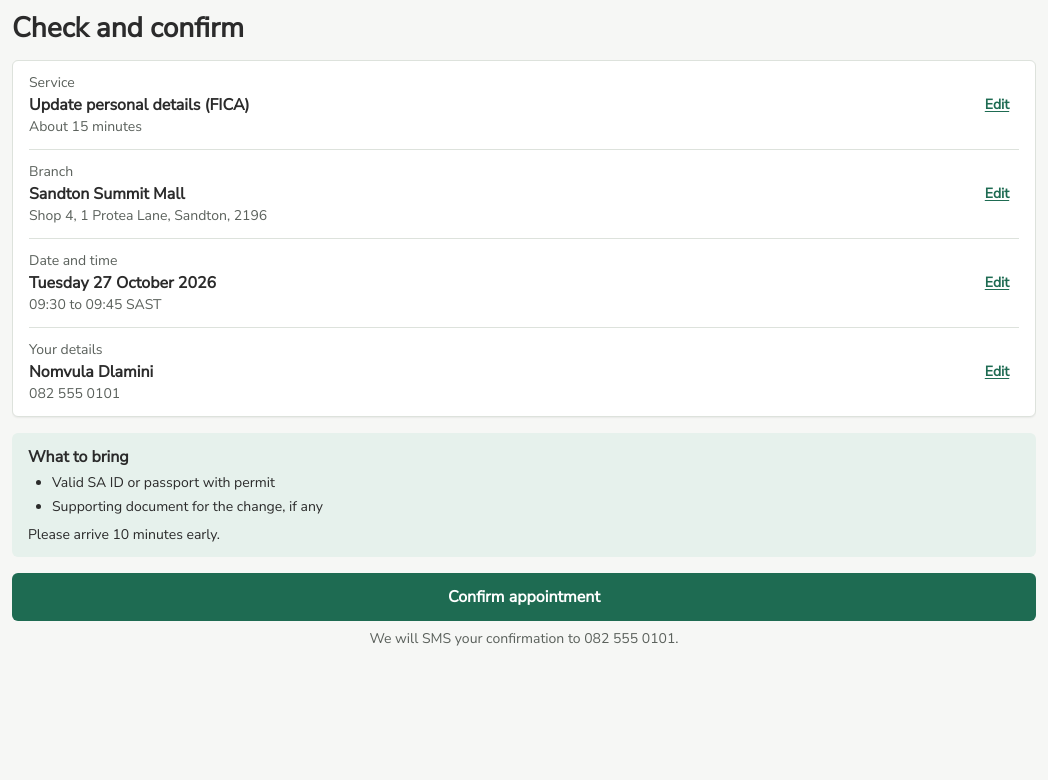
Scenario: ReviewStep › gives the id to quote when something fails on our side
The image size is (1048, 780).
Step 1. Click the button "Confirm appointment" → (524, 597), box [12,573,1036,621]
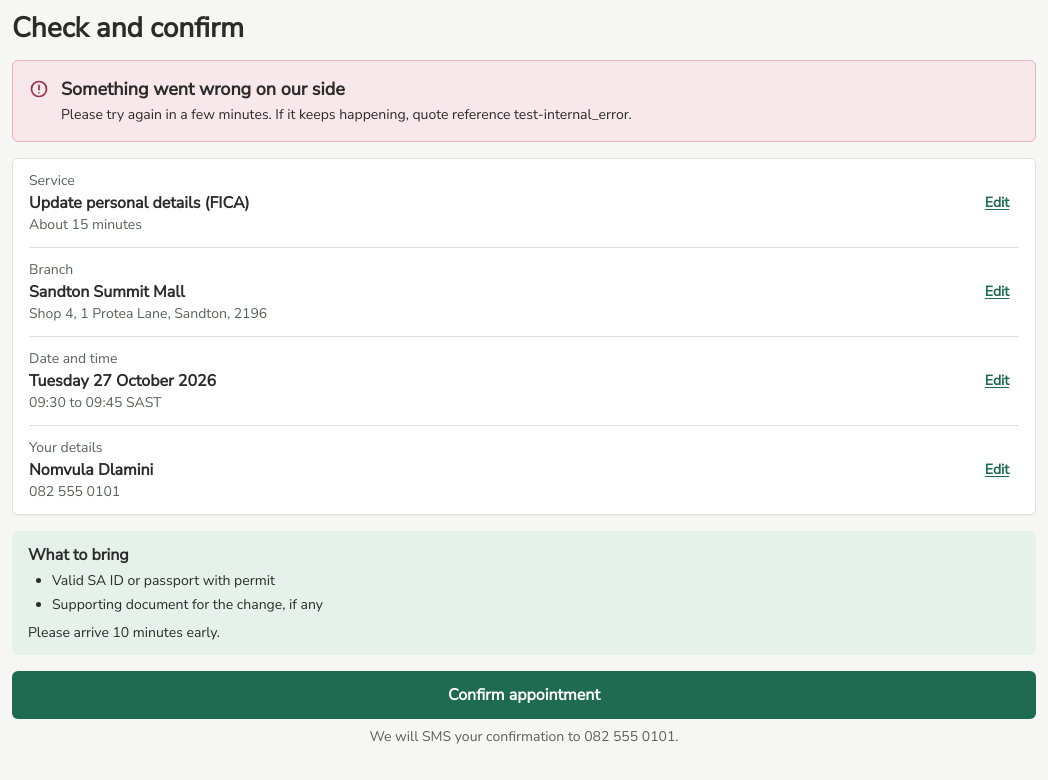
Expected: the message shows "Something went wrong on our side", [61,77,345,101]
Expected: the message shows "If it keeps happening, quote reference test-internal_error.", [61,105,632,124]
